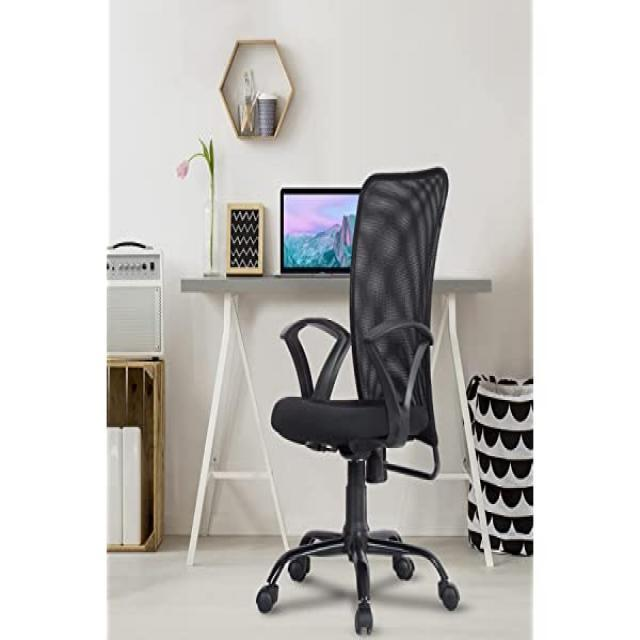chair: (256, 168, 464, 634)
